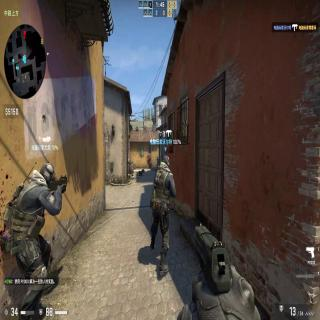CT-Body: (149, 155, 177, 277)
CT-Head: (38, 160, 57, 187), (162, 156, 170, 168)
T-Body: (156, 155, 159, 166)
T-Head: (157, 157, 159, 159)
